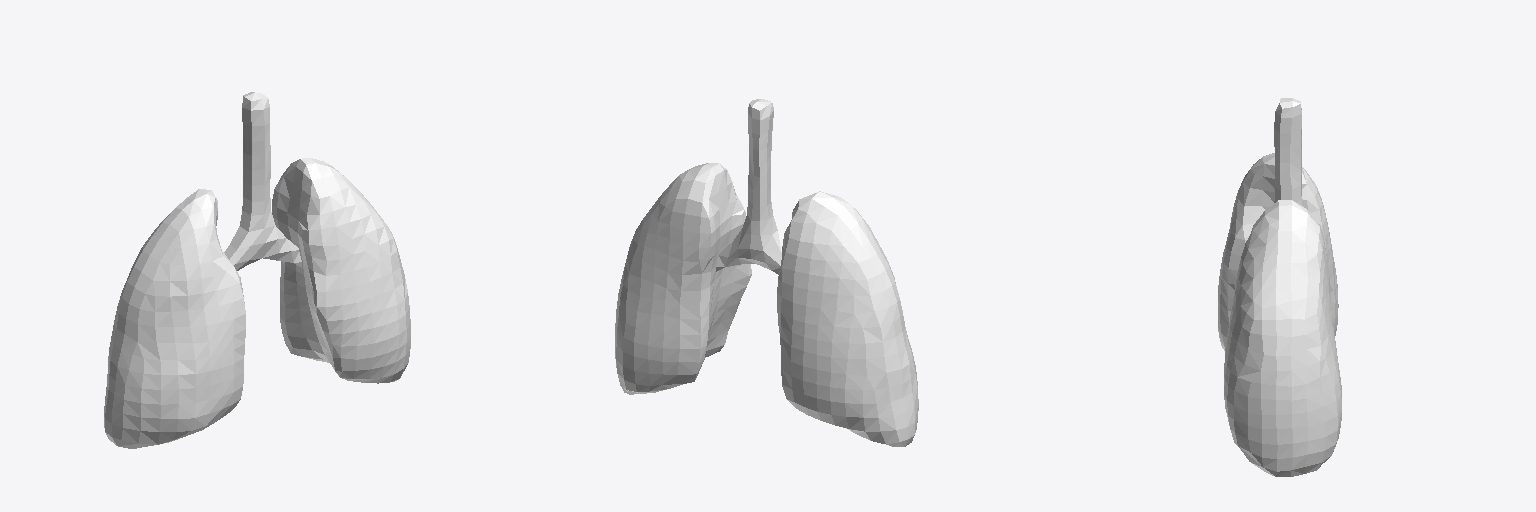
File: Human_Lung_Low_Poly.obj
3 renders of one model, left to right at view 1: azimuth 30°, elevation 25°; view 2: azimuth 150°, elevation 25°; view 3: azimuth 270°, elevation 25°, orthographic.
Size of the model in its own units: 3.88 by 4 by 1.43.